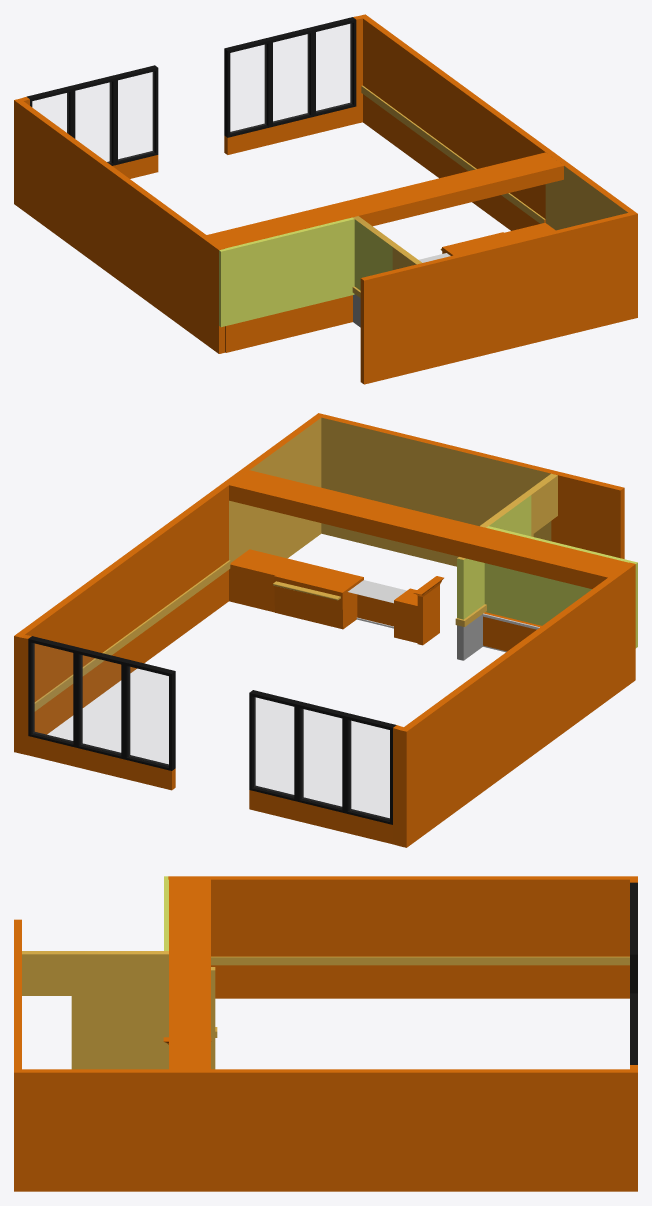
Rendered from Junk Food Restaurant.fbx.
The picture shows the model from 3 angles, top to bottom: view 1: azimuth 30°, elevation 25°; view 2: azimuth 150°, elevation 25°; view 3: azimuth 270°, elevation 25°; orthographic projection. The views are drawn at different scales.
Visible parts, largest first — view 1: pCube89, pCube87, pCube82, pCube84, pCube83, pCube85, pCube88; view 2: pCube89, pCube87, pCube84, pCube88, pCube85, pCube82, pCube83; view 3: pCube89, pCube87, pCube85, pCube84.
Boxes of the visible parts, bbox=[...] form: pCube89: bbox=[224, 14, 637, 384]; pCube87: bbox=[14, 65, 224, 353]; pCube82: bbox=[219, 217, 354, 327]; pCube84: bbox=[207, 152, 563, 248]; pCube83: bbox=[225, 295, 352, 352]; pCube85: bbox=[352, 216, 421, 327]; pCube88: bbox=[418, 223, 555, 262]; pCube89: bbox=[14, 413, 624, 790]; pCube87: bbox=[249, 562, 635, 847]; pCube84: bbox=[229, 470, 627, 588]; pCube88: bbox=[229, 549, 443, 645]; pCube85: bbox=[455, 473, 557, 660]; pCube82: bbox=[484, 526, 637, 648]; pCube83: bbox=[482, 612, 541, 652]; pCube89: bbox=[14, 919, 637, 1191]; pCube87: bbox=[168, 876, 637, 998]; pCube85: bbox=[22, 951, 217, 1069]; pCube84: bbox=[169, 879, 210, 1069].
Bounding box in the file's own units: 77.91 × 22.18 × 105.
